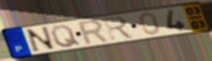0: (138, 11, 163, 37)
4: (166, 8, 188, 33)
N: (24, 26, 58, 54)
Q: (49, 24, 83, 49)
R: (77, 18, 112, 47), (101, 15, 136, 42)
